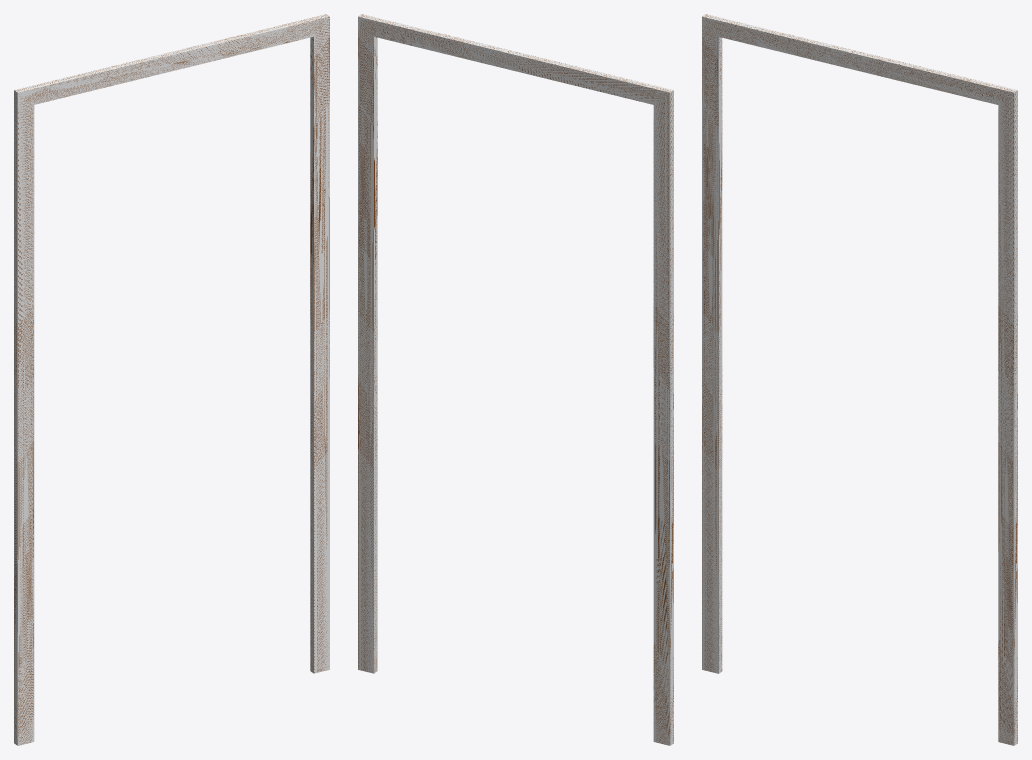
The model's file is frame.dae.
3 views of the same model, side by side, from view 1: azimuth 30°, elevation 25°; view 2: azimuth 150°, elevation 25°; view 3: azimuth 330°, elevation 25° (orthographic).
Parts seen in each view (by area): view 1: skpE666; view 2: skpE666; view 3: skpE666.
Part boxes in pixels (box(x1,y1,x2,y2)): skpE666: box(14, 14, 329, 745); skpE666: box(358, 14, 673, 745); skpE666: box(702, 14, 1017, 745).
Size of the model in its own units: 39.37 by 0.7874 by 78.74.
